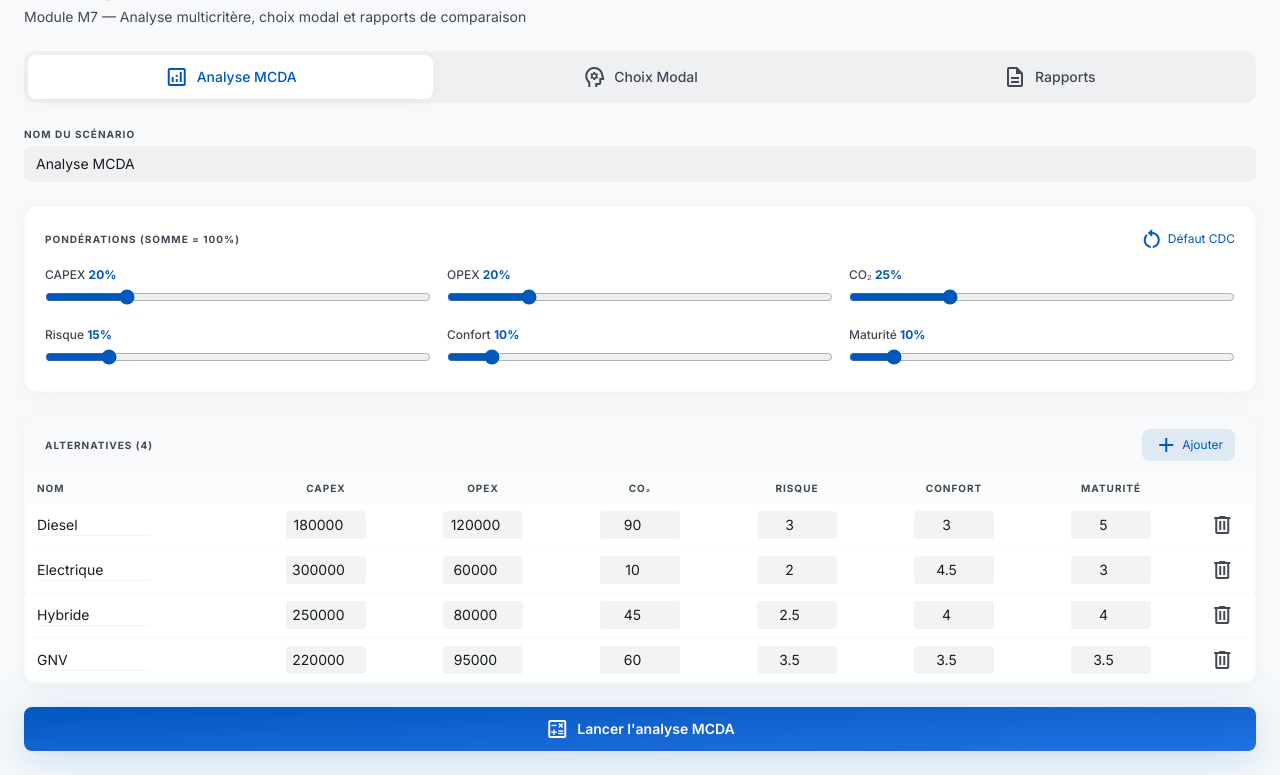
Test: ScoringDashboardPage › shows sensitivity sliders after computation
(page scrolled)
Click the button "Lancer l'analyse MCDA" at (640, 729), box x1=24 y1=707 x2=1256 y2=751
(page scrolled)
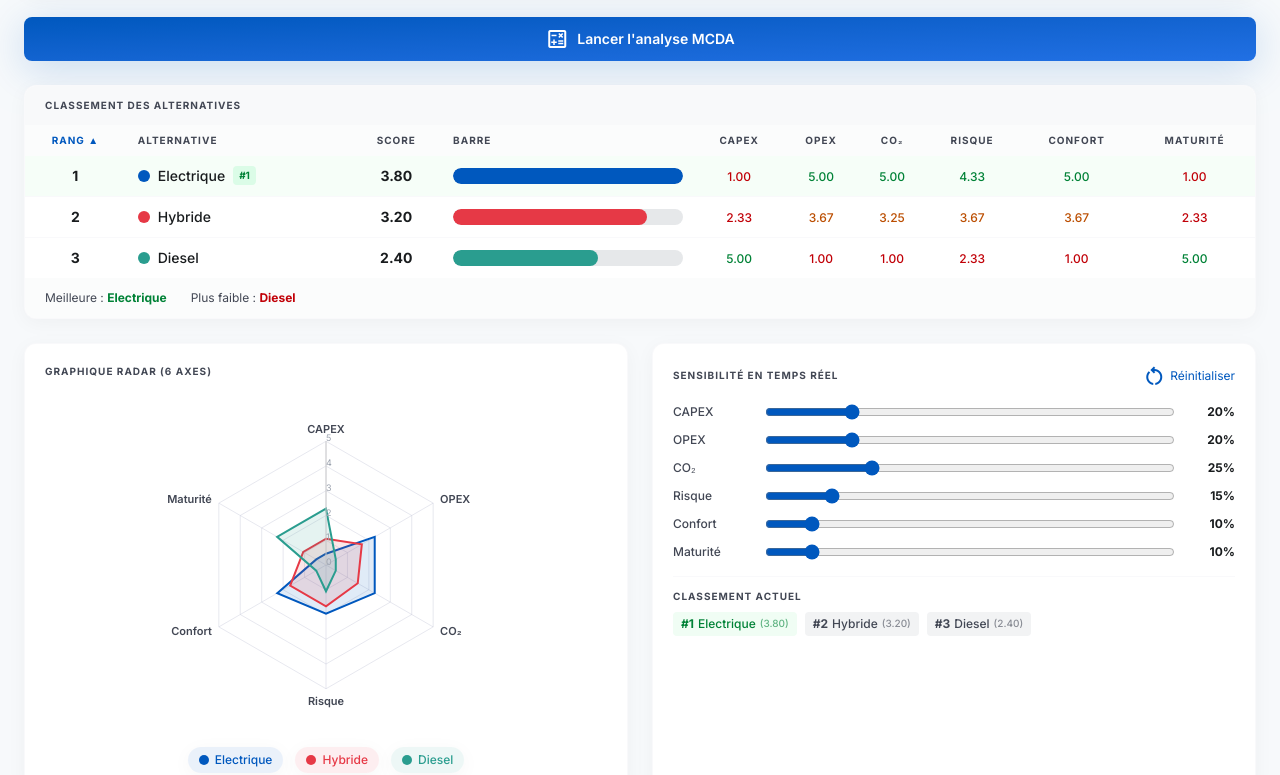
Now the heading "Sensibilité en temps réel" is shown, box x1=673 y1=368 x2=838 y2=383
